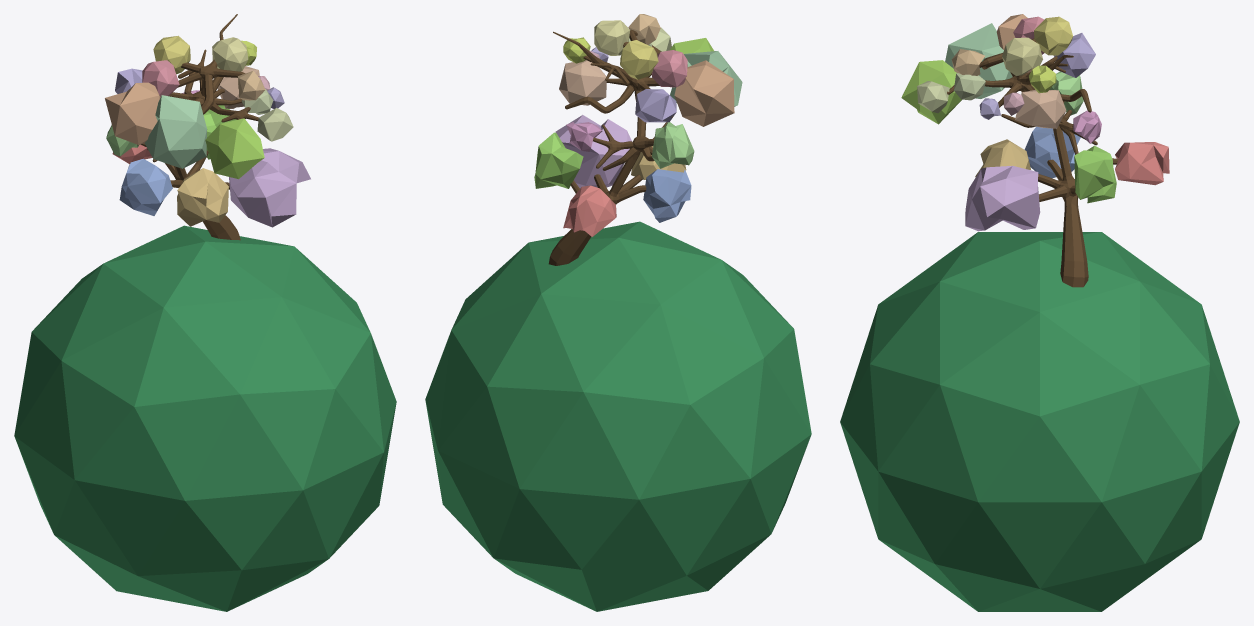
File: large tree.fbx
3 views of the same model, side by side, from view 1: azimuth 30°, elevation 25°; view 2: azimuth 150°, elevation 25°; view 3: azimuth 270°, elevation 25° (orthographic). The views are drawn at different scales.
Visible parts, largest first — view 1: Icosphere.021, Icosphere, Cube, Icosphere.008, Icosphere.005, Icosphere.009, Icosphere.003, Icosphere.004, Icosphere.017, Icosphere.019, Icosphere.018, Icosphere.006 (+2 smaller); view 2: Icosphere.021, Cube, Icosphere.009, Icosphere, Icosphere.004, Icosphere.002, Icosphere.001, Icosphere.013, Icosphere.015, Icosphere.016, Icosphere.018, Icosphere.019 (+5 smaller); view 3: Icosphere.021, Cube, Icosphere, Icosphere.001, Icosphere.002, Icosphere.008, Icosphere.005, Icosphere.013, Icosphere.004, Icosphere.017, Icosphere.018, Icosphere.003 (+7 smaller).
Part boxes in pixels (<box>): Icosphere.021: <box>14,225,396,611</box>; Icosphere: <box>229,148,310,227</box>; Cube: <box>141,14,258,240</box>; Icosphere.008: <box>144,95,207,168</box>; Icosphere.005: <box>205,118,264,179</box>; Icosphere.009: <box>105,82,160,144</box>; Icosphere.003: <box>177,168,228,226</box>; Icosphere.004: <box>119,158,172,215</box>; Icosphere.017: <box>212,37,248,71</box>; Icosphere.019: <box>142,60,179,96</box>; Icosphere.018: <box>153,35,190,74</box>; Icosphere.006: <box>257,108,293,141</box>; Icosphere.021: <box>425,221,811,611</box>; Cube: <box>548,29,673,265</box>; Icosphere.009: <box>674,60,734,126</box>; Icosphere: <box>555,115,631,188</box>; Icosphere.004: <box>643,169,691,222</box>; Icosphere.002: <box>534,132,583,188</box>; Icosphere.001: <box>563,185,616,236</box>; Icosphere.013: <box>559,60,606,105</box>; Icosphere.015: <box>652,122,694,168</box>; Icosphere.016: <box>635,89,676,122</box>; Icosphere.018: <box>620,40,658,79</box>; Icosphere.019: <box>652,50,687,87</box>; Icosphere.021: <box>840,232,1239,611</box>; Cube: <box>947,38,1118,287</box>; Icosphere: <box>965,165,1040,231</box>; Icosphere.001: <box>1115,142,1169,185</box>; Icosphere.002: <box>1074,145,1116,203</box>; Icosphere.008: <box>945,23,1012,98</box>; Icosphere.005: <box>901,60,961,124</box>; Icosphere.013: <box>1015,89,1066,128</box>; Icosphere.004: <box>1024,126,1080,178</box>; Icosphere.017: <box>1002,37,1042,76</box>; Icosphere.018: <box>1034,16,1073,55</box>; Icosphere.003: <box>975,139,1030,177</box>.
Bounding box in the file's own units: 190 × 315 × 200.
